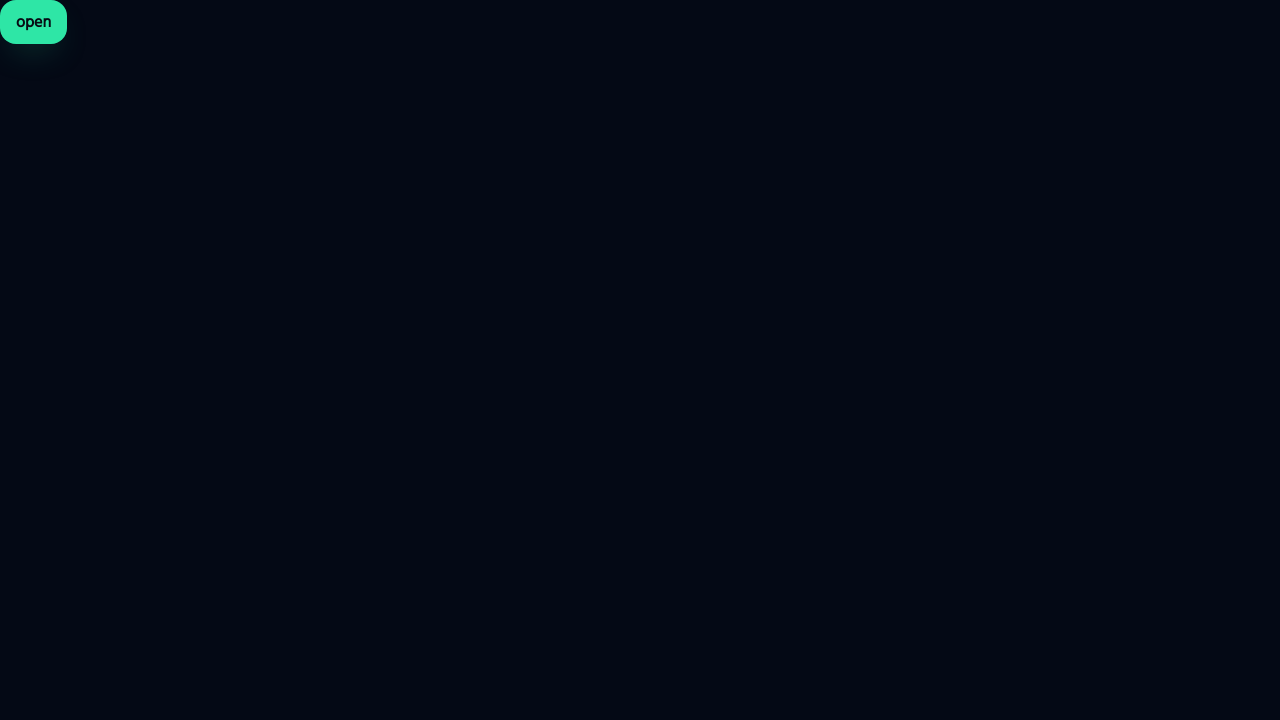
Test case: CitationSheet › FR-70 R-01 shows the section without a highlight when the quote is not in it
Click the button "open" at [34, 22], box left=0, top=0, right=67, bottom=44
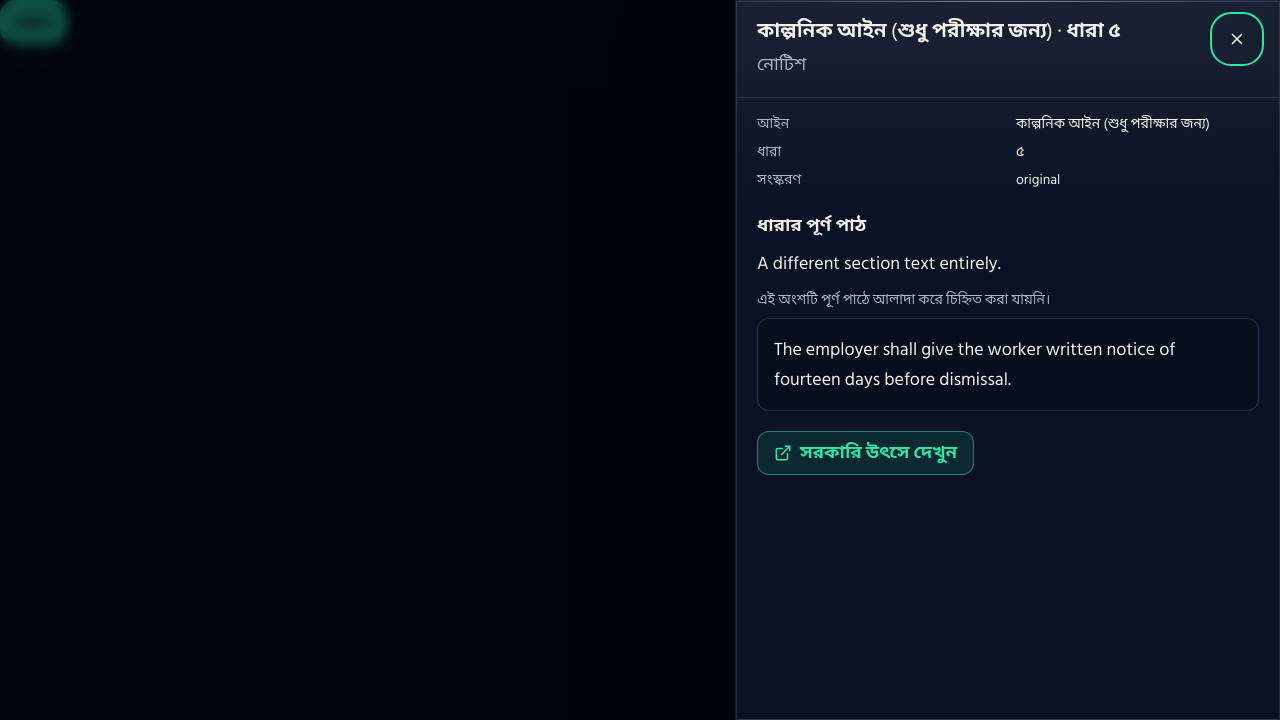
Now the text "A different section text entirely." is shown, box left=757, top=249, right=1001, bottom=278
Now the text "এই অংশটি পূর্ণ পাঠে আলাদা করে চিহ্নিত করা যায়নি।" is shown, box left=757, top=288, right=1050, bottom=311
